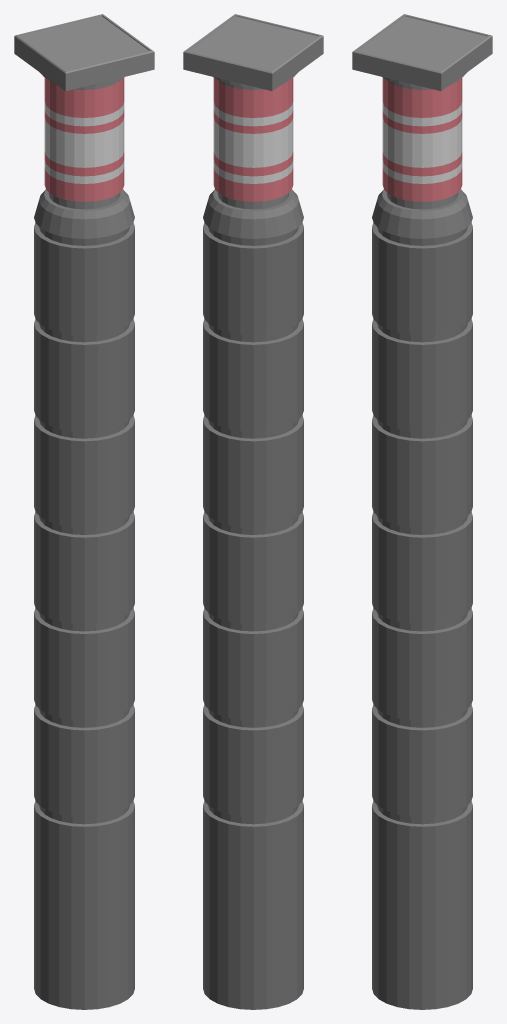
File: Pad.fbx
3 views of the same model, side by side, from view 1: azimuth 30°, elevation 25°; view 2: azimuth 150°, elevation 25°; view 3: azimuth 330°, elevation 25° (orthographic).
Parts seen in each view (by area): view 1: Cylinder; view 2: Cylinder; view 3: Cylinder.
Boxes of the visible parts, x1,y1,x2,y2 form: Cylinder: (14, 14, 154, 1009); Cylinder: (183, 14, 323, 1009); Cylinder: (352, 14, 492, 1009).
Bounding box in the file's own units: 1200 × 12178 × 1200.
